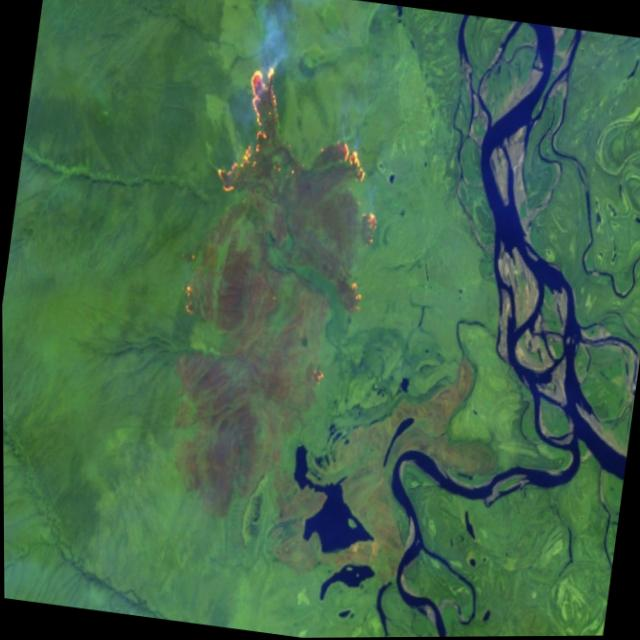fire: (202, 53, 402, 257)
